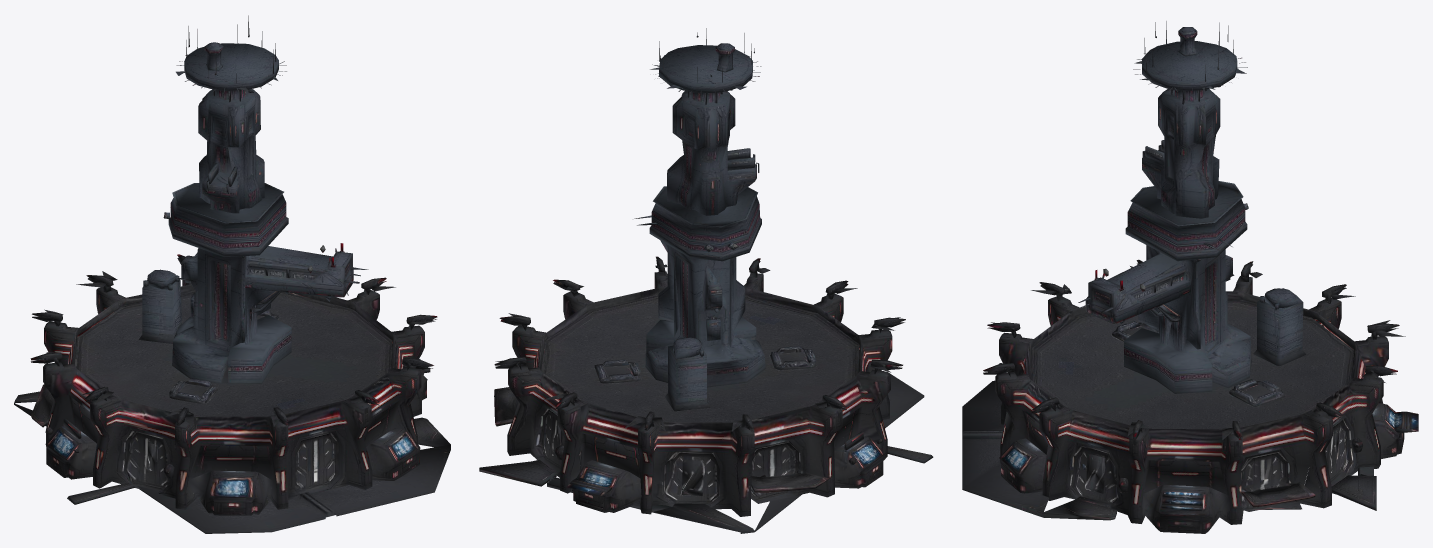
File: 019e2f29-3cbe-7730-a61f-839b2abbf025.glb
3 renders of one model, left to right at view 1: azimuth 30°, elevation 25°; view 2: azimuth 150°, elevation 25°; view 3: azimuth 270°, elevation 25°, orthographic. The views are drawn at different scales.
Visible parts, largest first — view 1: tripo_node_d8138945-6b7e-4be3-bbf2-20afc582c64e; view 2: tripo_node_d8138945-6b7e-4be3-bbf2-20afc582c64e; view 3: tripo_node_d8138945-6b7e-4be3-bbf2-20afc582c64e.
Part boxes in pixels (x1,y1,x2,y2): tripo_node_d8138945-6b7e-4be3-bbf2-20afc582c64e: (14, 15, 450, 533); tripo_node_d8138945-6b7e-4be3-bbf2-20afc582c64e: (479, 28, 933, 533); tripo_node_d8138945-6b7e-4be3-bbf2-20afc582c64e: (962, 21, 1418, 533).
Bounding box in the file's own units: 0.9863 × 0.998 × 0.998.
1 material, 1 textured.
